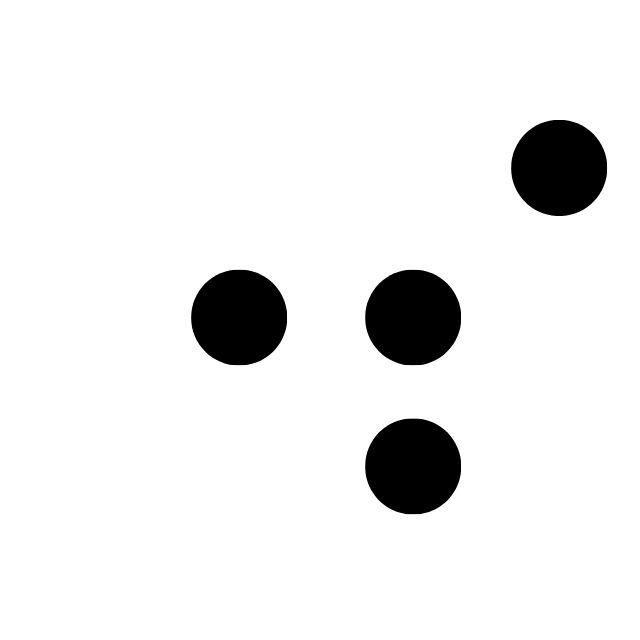dot_5: (43, 119, 287, 515)
subalit: (365, 120, 609, 515)
